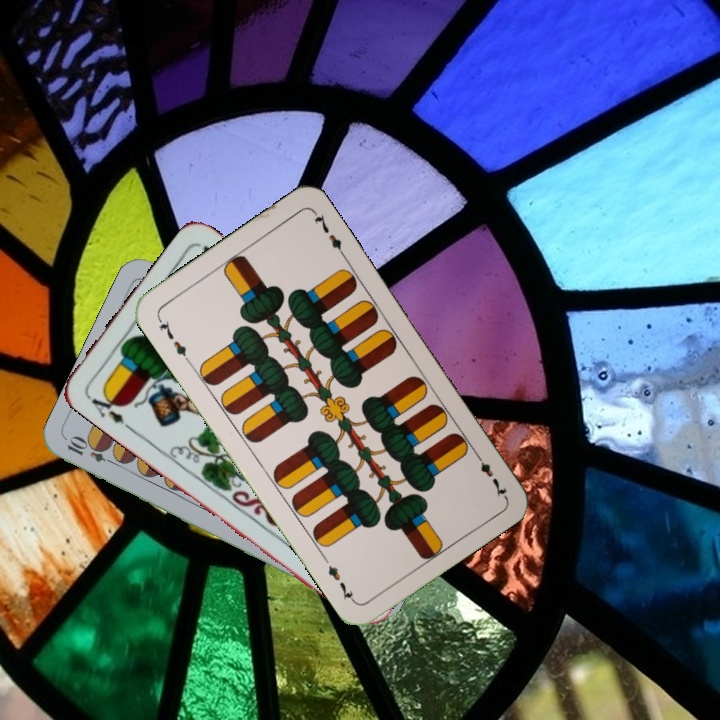E10: (62, 434, 120, 468)
E7: (153, 313, 193, 365), (470, 447, 509, 500)
EA: (87, 387, 127, 427)
